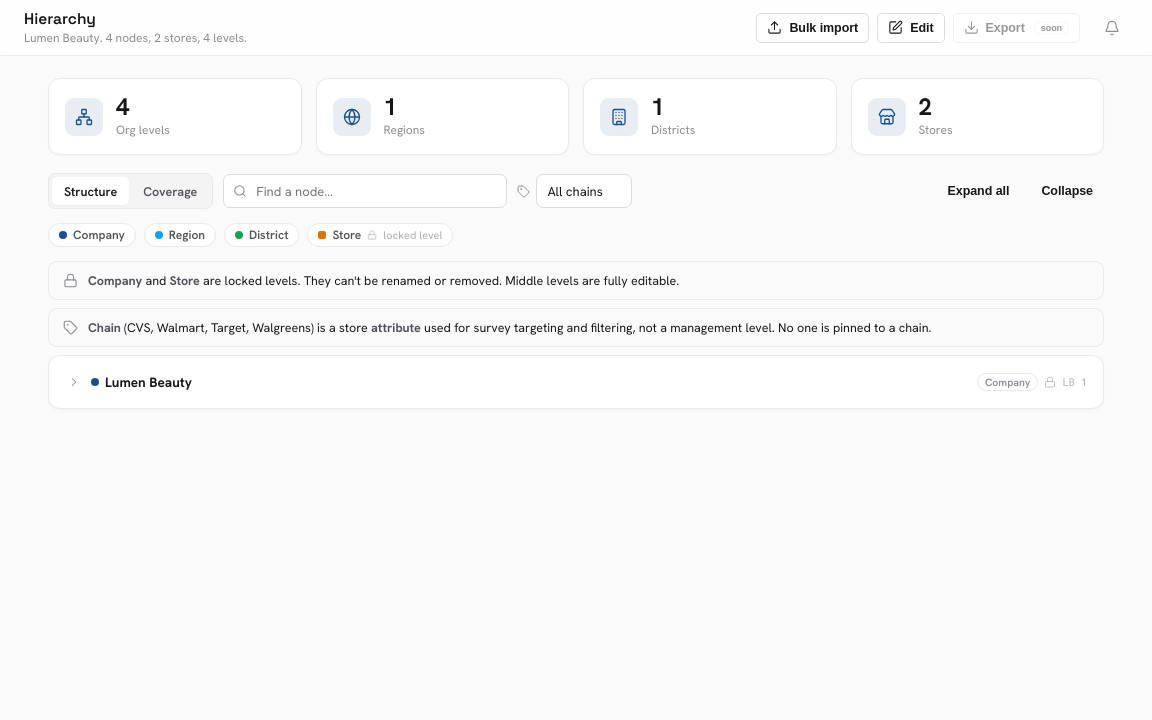
Test case: Hierarchy fidelity: banners + coverage › switches to Coverage mode: staffing summary + manager chip, structure banner gone
Check: the text "Lumen Beauty" is shown, box left=105, top=373, right=192, bottom=391
Click the button "Expand all" at x=978, y=191, box left=936, top=176, right=1020, bottom=206
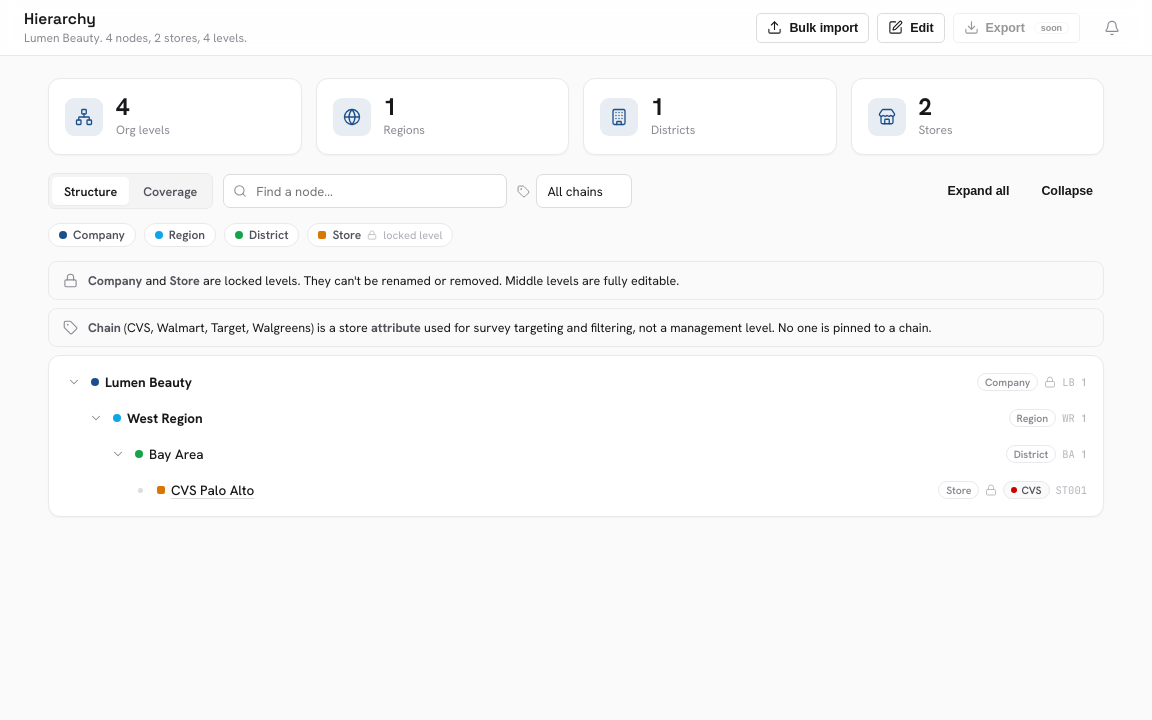
Check: the text "West Region" is shown, box left=127, top=409, right=203, bottom=427
Click the tab "Coverage" at x=170, y=191, box left=131, top=177, right=209, bottom=205
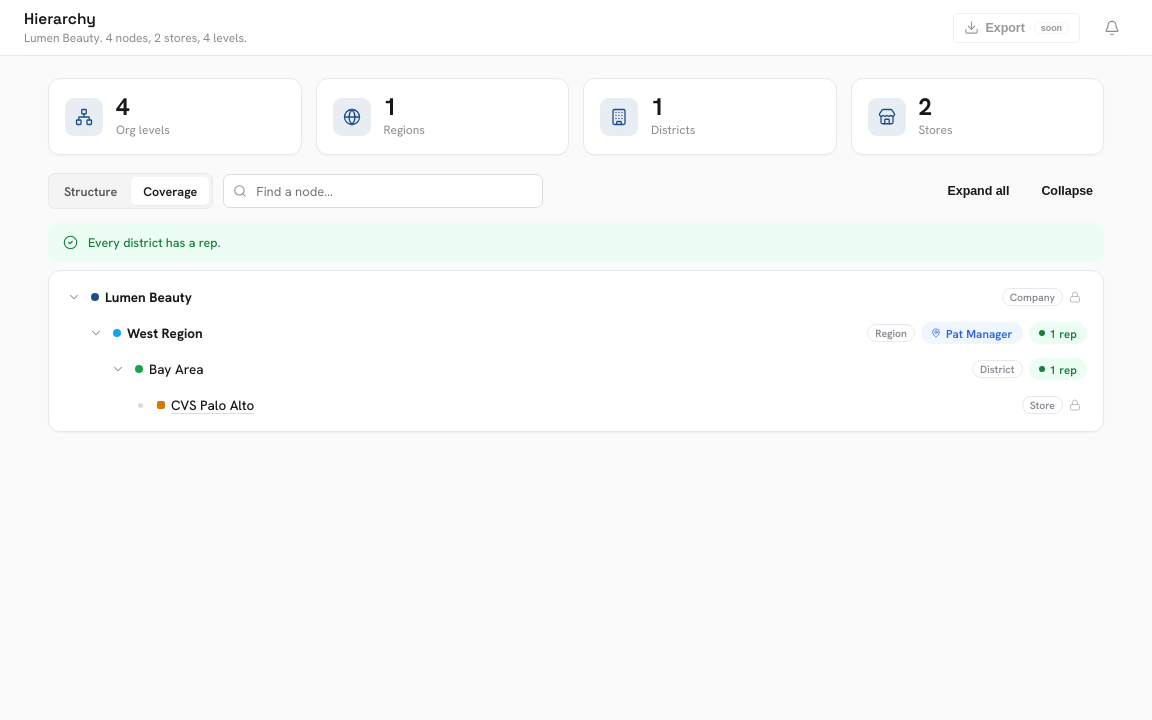
Check: the text "Every district has a rep." is shown, box left=88, top=234, right=220, bottom=251
Check: the text "Pat Manager" is shown, box left=921, top=322, right=1023, bottom=344
Check: the text "are locked levels" is gone
